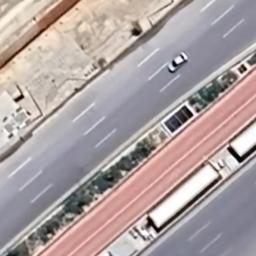sedan: (167, 50, 191, 74)
